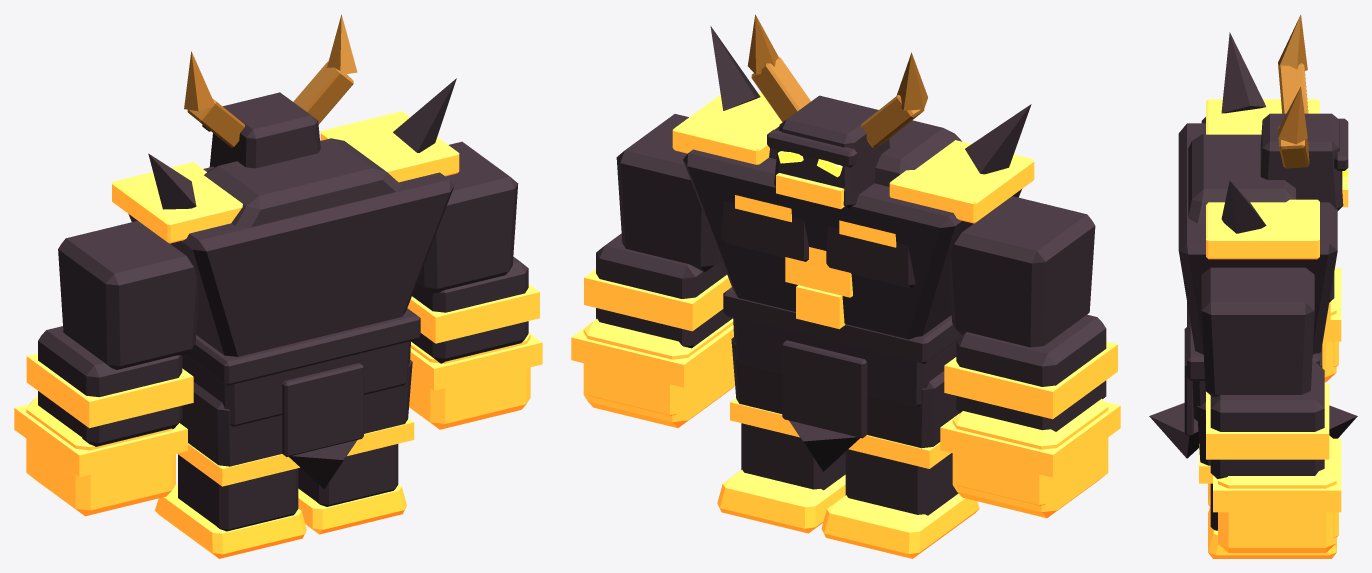
Rendered from fire_demon.glb.
The picture shows the model from 3 angles, left to right: view 1: azimuth 30°, elevation 25°; view 2: azimuth 150°, elevation 25°; view 3: azimuth 270°, elevation 25°; orthographic projection. The views are drawn at different scales.
Parts seen in each view (by area): view 1: Torso, ArmL, ArmR, Hips, LegL, LegR; view 2: Torso, ArmL, ArmR, Hips, LegL, LegR; view 3: ArmR, Torso, Hips, LegR, ArmL.
Boxes of the visible parts, left/top/right/bottom form: Torso: left=112, top=14, right=459, bottom=356; ArmL: left=14, top=221, right=198, bottom=516; ArmR: left=407, top=141, right=542, bottom=429; Hips: left=182, top=308, right=420, bottom=489; LegL: left=155, top=382, right=306, bottom=558; LegR: left=298, top=360, right=414, bottom=534; Torso: left=672, top=14, right=1034, bottom=339; ArmL: left=940, top=196, right=1120, bottom=518; ArmR: left=571, top=114, right=734, bottom=427; Hips: left=723, top=287, right=962, bottom=471; LegL: left=821, top=371, right=979, bottom=558; LegR: left=717, top=337, right=845, bottom=533; ArmR: left=1201, top=267, right=1341, bottom=552; Torso: left=1178, top=14, right=1348, bottom=354; Hips: left=1149, top=302, right=1357, bottom=458; LegR: left=1197, top=402, right=1336, bottom=558; ArmL: left=1201, top=117, right=1341, bottom=382.
Bounding box in the file's own units: 2.22 × 2.16 × 0.8795.
